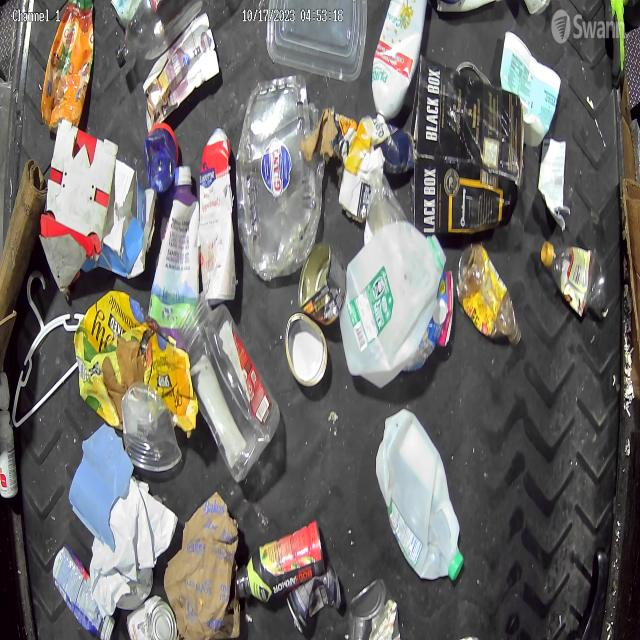can: (298, 241, 344, 326), (287, 567, 341, 634), (285, 310, 328, 388), (346, 579, 399, 640), (128, 593, 176, 640)
milk_jug: (339, 224, 446, 387), (374, 408, 463, 587)
plastic_bottle: (459, 246, 523, 349), (114, 0, 202, 69), (540, 244, 608, 316)
